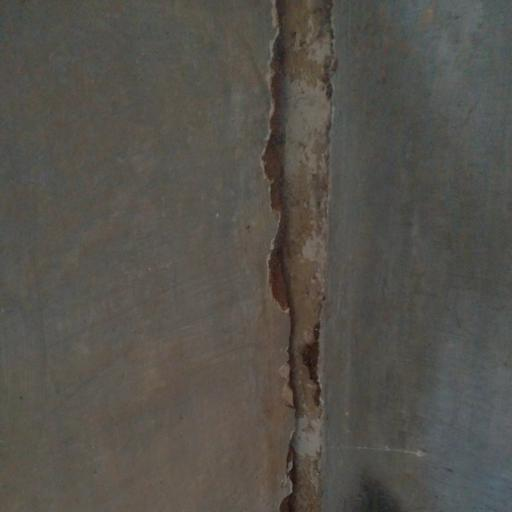major_crack: (259, 0, 349, 512)
